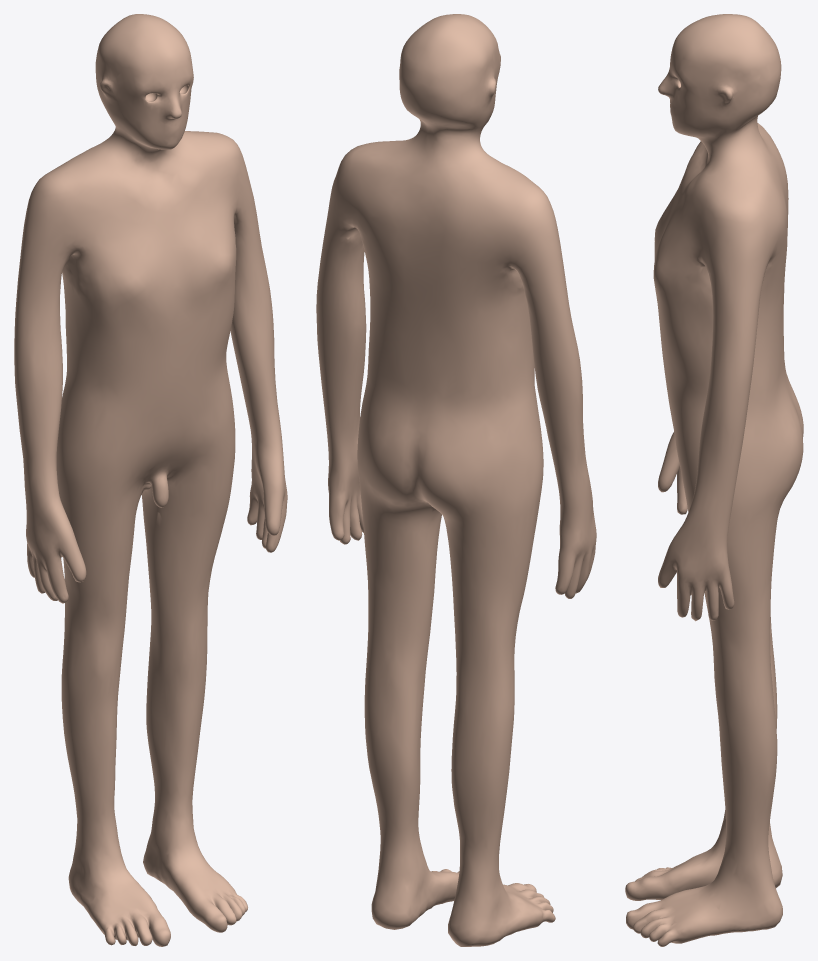
File: pediatric_adolescent_male.surface.LOD0.glb
3 views of the same model, side by side, from view 1: azimuth 30°, elevation 25°; view 2: azimuth 150°, elevation 25°; view 3: azimuth 270°, elevation 25° (orthographic). The views are drawn at different scales.
Parts seen in each view (by area): view 1: PEDIATRIC.ADOLESCENT.MALE.SURFACE.SKIN; view 2: PEDIATRIC.ADOLESCENT.MALE.SURFACE.SKIN; view 3: PEDIATRIC.ADOLESCENT.MALE.SURFACE.SKIN.
Boxes of the visible parts, box(x1,y1,x2,y2) form: PEDIATRIC.ADOLESCENT.MALE.SURFACE.SKIN: box(14, 14, 287, 946); PEDIATRIC.ADOLESCENT.MALE.SURFACE.SKIN: box(316, 14, 596, 946); PEDIATRIC.ADOLESCENT.MALE.SURFACE.SKIN: box(625, 14, 803, 946).
Size of the model in its own units: 0.4997 by 1.67 by 0.3004.
